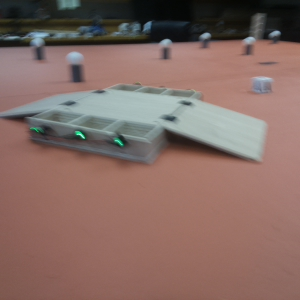blockA: (244, 74, 277, 93)
corner: (250, 11, 267, 38)
obstacle: (65, 50, 88, 86), (30, 37, 49, 63), (157, 37, 174, 62), (239, 38, 260, 57), (196, 30, 213, 49), (271, 29, 283, 45)
side: (28, 116, 161, 166), (108, 79, 203, 99)
slope: (165, 99, 270, 158), (4, 86, 102, 112)
start: (259, 58, 279, 68)
